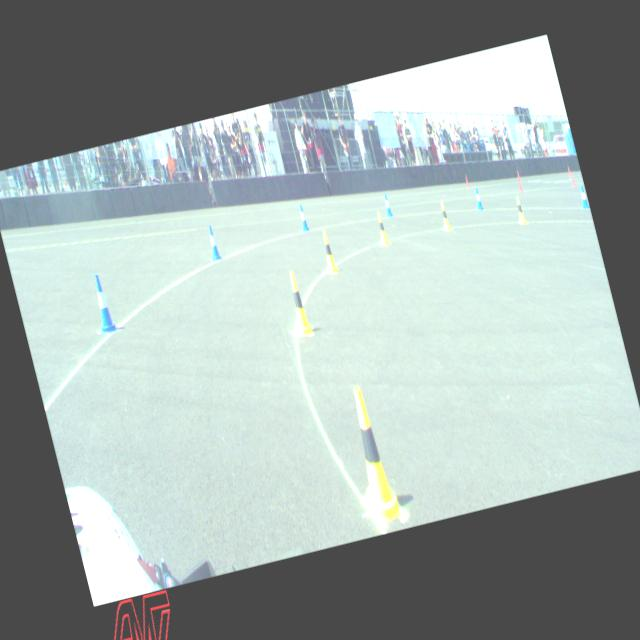blue_cone: (86, 272, 118, 334), (204, 223, 221, 260), (296, 203, 309, 231), (380, 192, 392, 218), (578, 185, 590, 209), (472, 187, 483, 210)
unknown_cone: (516, 178, 522, 192), (570, 172, 576, 185), (464, 174, 469, 188), (516, 170, 520, 182), (566, 166, 570, 176)
yellow_cone: (338, 382, 404, 526), (282, 270, 313, 337), (318, 229, 338, 273), (373, 210, 389, 245), (438, 200, 452, 231), (512, 196, 526, 223)
